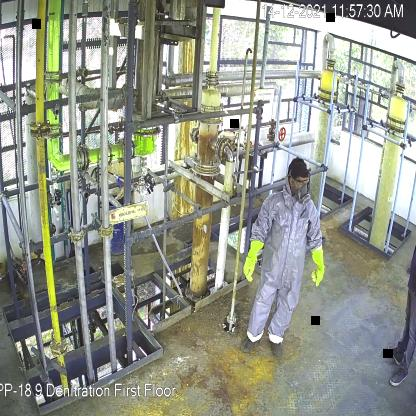goggles: (292, 176, 309, 186)
mask: (295, 186, 311, 208)
